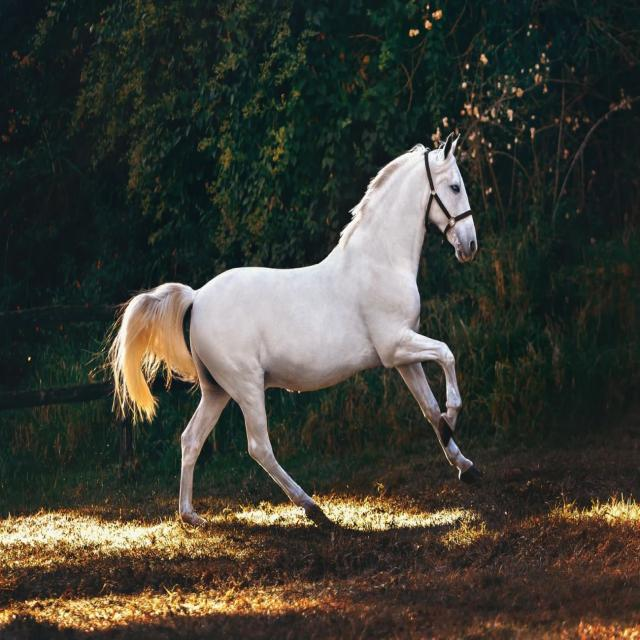Horse: (121, 119, 483, 544)
